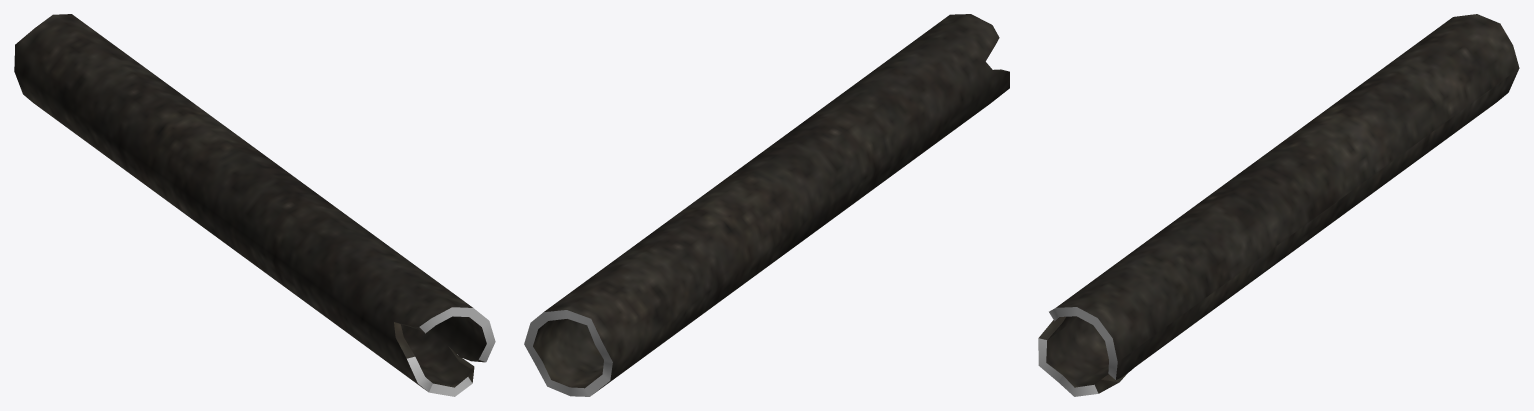
The model's file is pipe_mx_2.obj.
3 views of the same model, side by side, from view 1: azimuth 30°, elevation 25°; view 2: azimuth 150°, elevation 25°; view 3: azimuth 330°, elevation 25° (orthographic).
Visible parts, largest first — view 1: pipe_mx_2; view 2: pipe_mx_2; view 3: pipe_mx_2.
Boxes of the visible parts, bbox=[...] form: pipe_mx_2: bbox=[14, 14, 495, 396]; pipe_mx_2: bbox=[524, 14, 1009, 396]; pipe_mx_2: bbox=[1038, 14, 1519, 396].
Size of the model in its own units: 0.05 by 0.05 by 0.4162.
